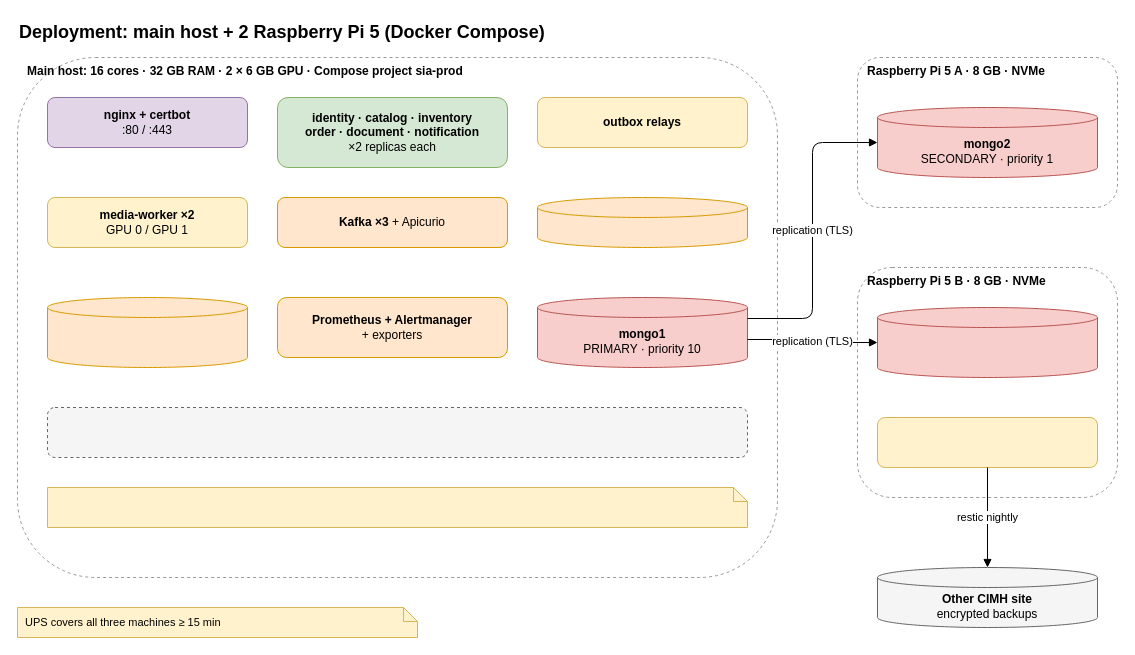
The diagram is 1135 pixels wide and 655 high, and some of its shapes have lost their labels. Each missing label, with the centre of its shape:
/srv/sia-data files volume (restic nightly → other site): the point at 147,332
backup job mongodump + restic: the point at 987,442
Memory budget ≈ 28–30 GB of 32 GB · every container has mem_limit: the point at 397,507
mongo3 SECONDARY · priority 1: the point at 987,342
Redis: the point at 642,222
sia-staging (separate Compose project, started on demand): the point at 397,432
